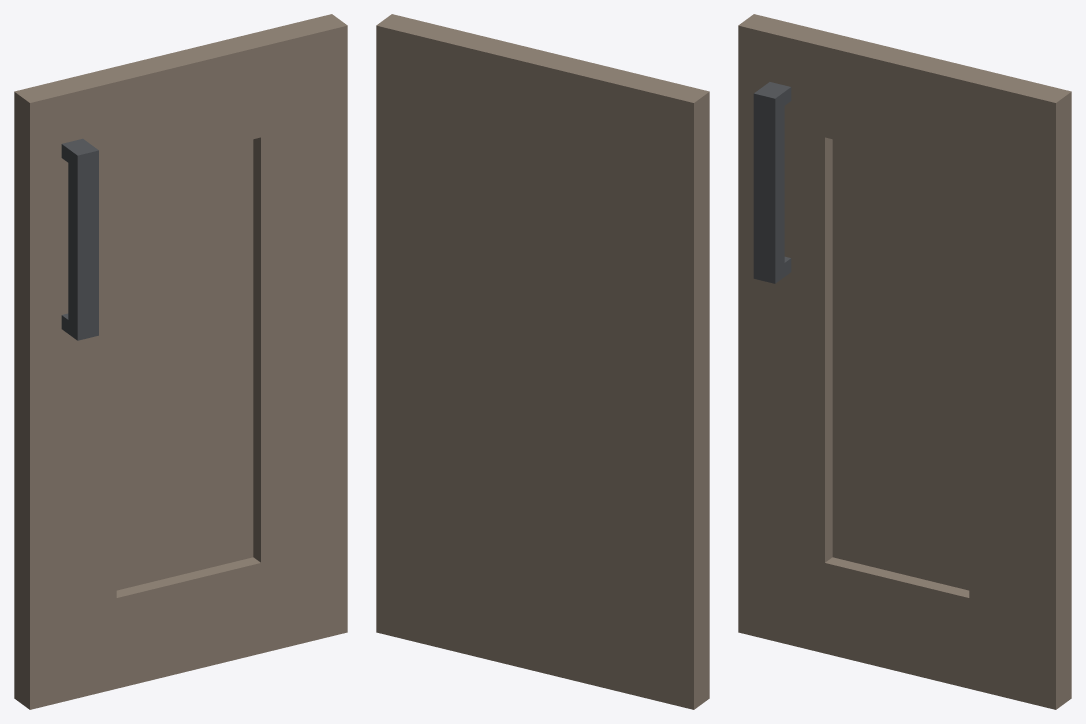
Rendered from Door2_C5_09.fbx.
3 views of the same model, side by side, from view 1: azimuth 30°, elevation 25°; view 2: azimuth 150°, elevation 25°; view 3: azimuth 330°, elevation 25° (orthographic).
Parts seen in each view (by area): view 1: Door2_C5_09; view 2: Door2_C5_09; view 3: Door2_C5_09.
Part boxes in pixels (x1,y1,x2,y2): Door2_C5_09: [14, 14, 347, 709]; Door2_C5_09: [376, 14, 709, 709]; Door2_C5_09: [738, 14, 1071, 709].
Bounding box in the file's own units: 29 × 52.92 × 5.03.
